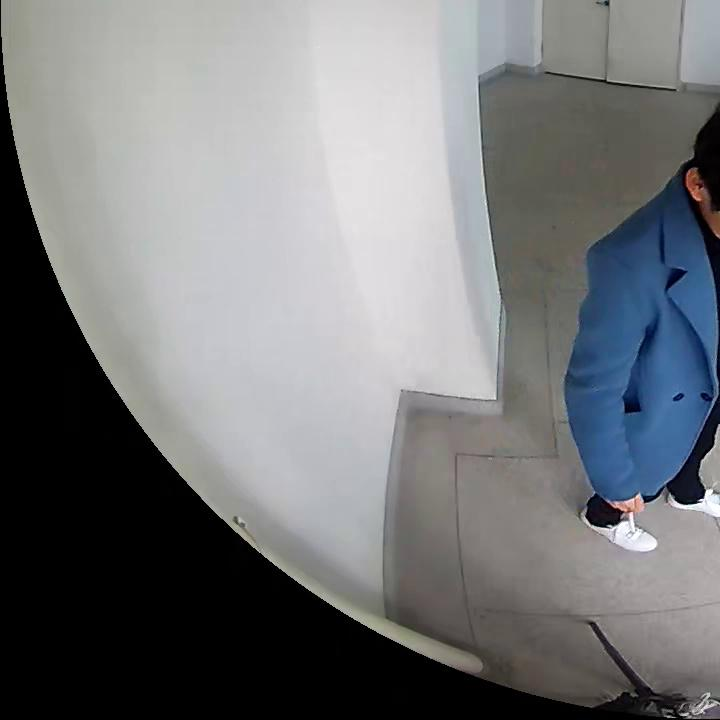handsmoke: (613, 498, 644, 536)
mouthwithoutsmoke: (686, 103, 720, 239)
